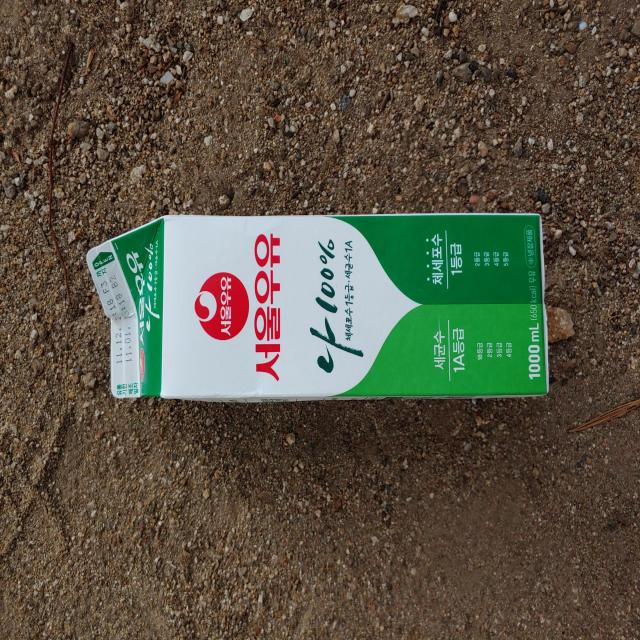paperpack: (86, 214, 550, 402)
